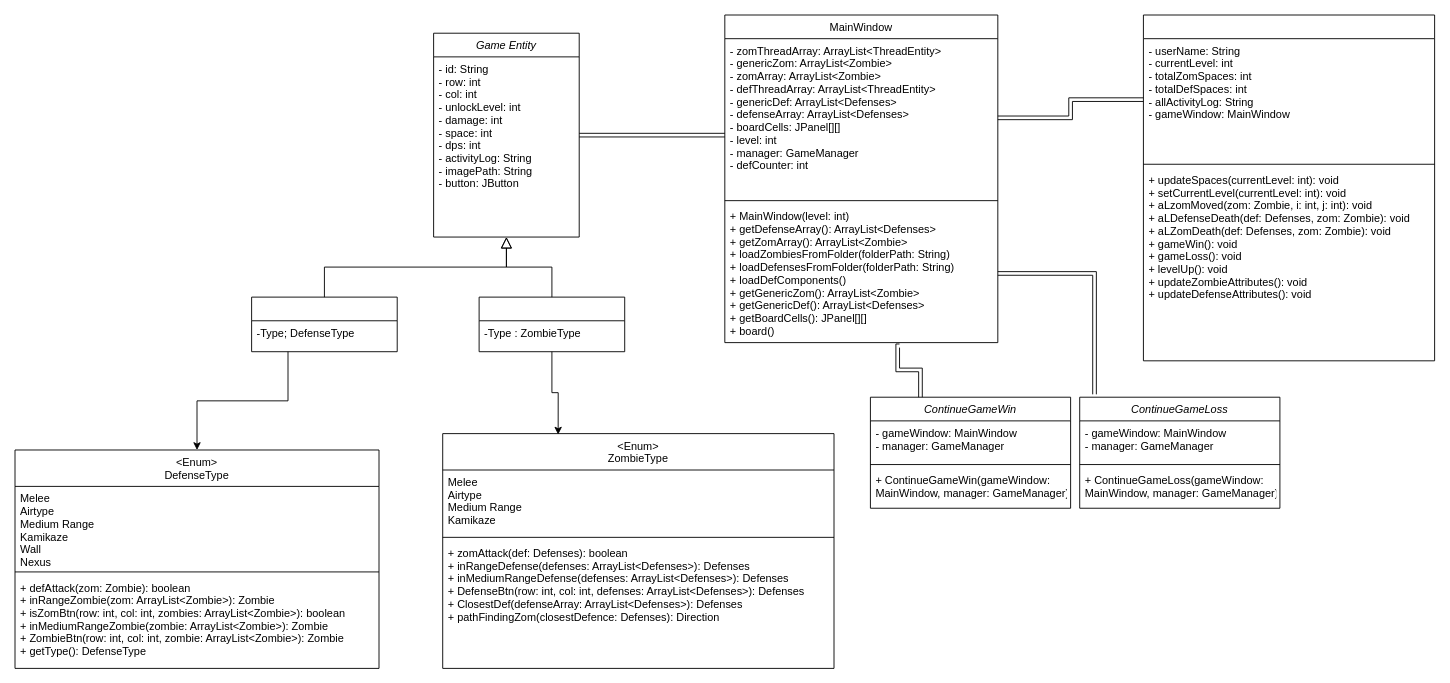
This 1450x683 diagram has some shape labels left out. The box of each missing label's shape, as (x1, y1, x2, y2) in pixels:
Defenses: (251, 296, 397, 352)
Game Manager: (1143, 14, 1435, 361)
Zombies: (478, 296, 625, 352)
